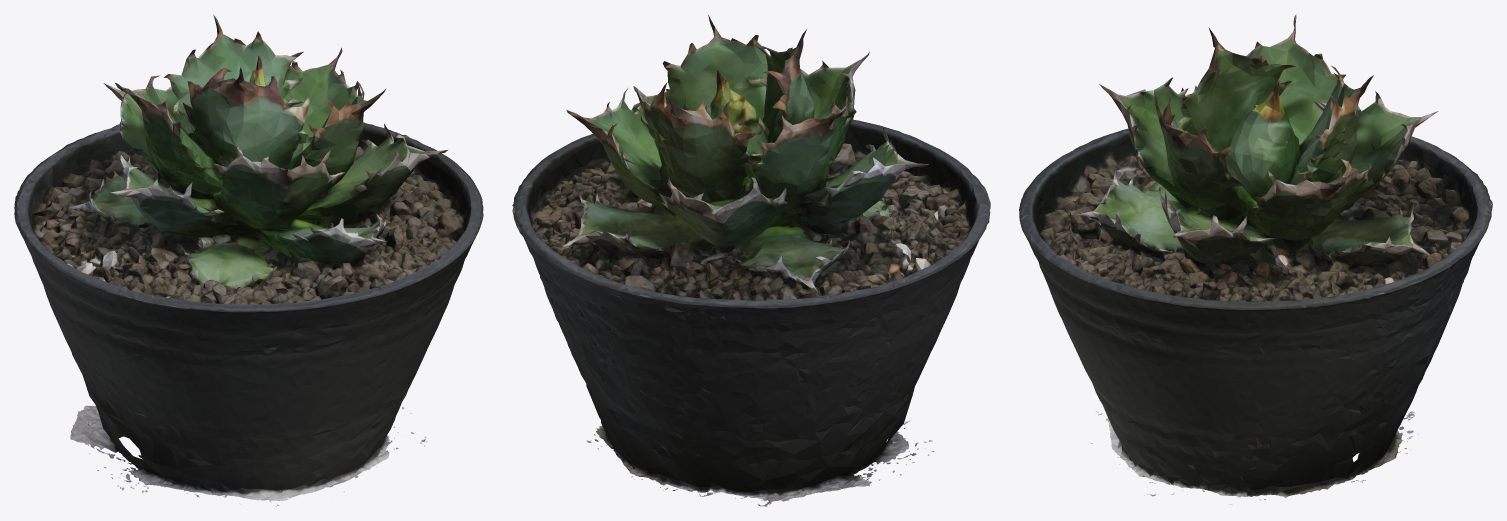
The model's file is agave_titanota_large_resized.glb.
The picture shows the model from 3 angles, left to right: view 1: azimuth 30°, elevation 25°; view 2: azimuth 150°, elevation 25°; view 3: azimuth 270°, elevation 25°; orthographic projection.
Parts seen in each view (by area): view 1: agave_model_final; view 2: agave_model_final; view 3: agave_model_final.
Part boxes in pixels (x1,y1,x2,y2): agave_model_final: (14, 14, 483, 506); agave_model_final: (512, 15, 990, 506); agave_model_final: (1019, 14, 1492, 504).
Size of the model in its own units: 3.85 by 3.59 by 3.87.
Materials: 1 (1 with a texture image).
